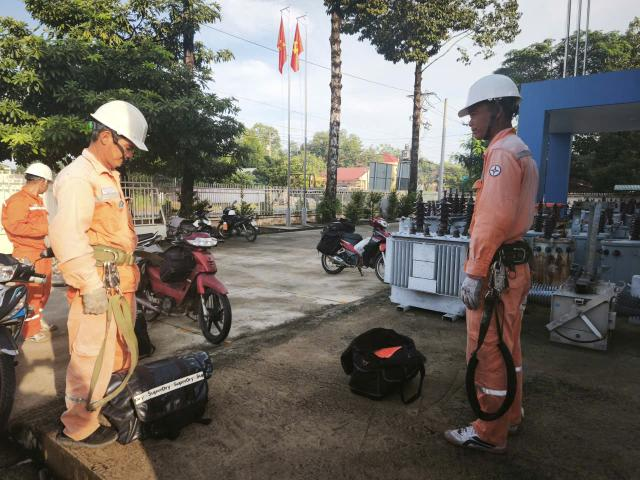gloves: (74, 271, 111, 328), (449, 266, 491, 314)
harness: (451, 232, 546, 273), (64, 239, 151, 277)
helmet: (95, 98, 150, 155), (455, 73, 520, 119), (18, 154, 58, 187)
shoes: (418, 421, 529, 463), (43, 411, 124, 455), (498, 400, 553, 439), (34, 312, 64, 335), (21, 330, 48, 348)
